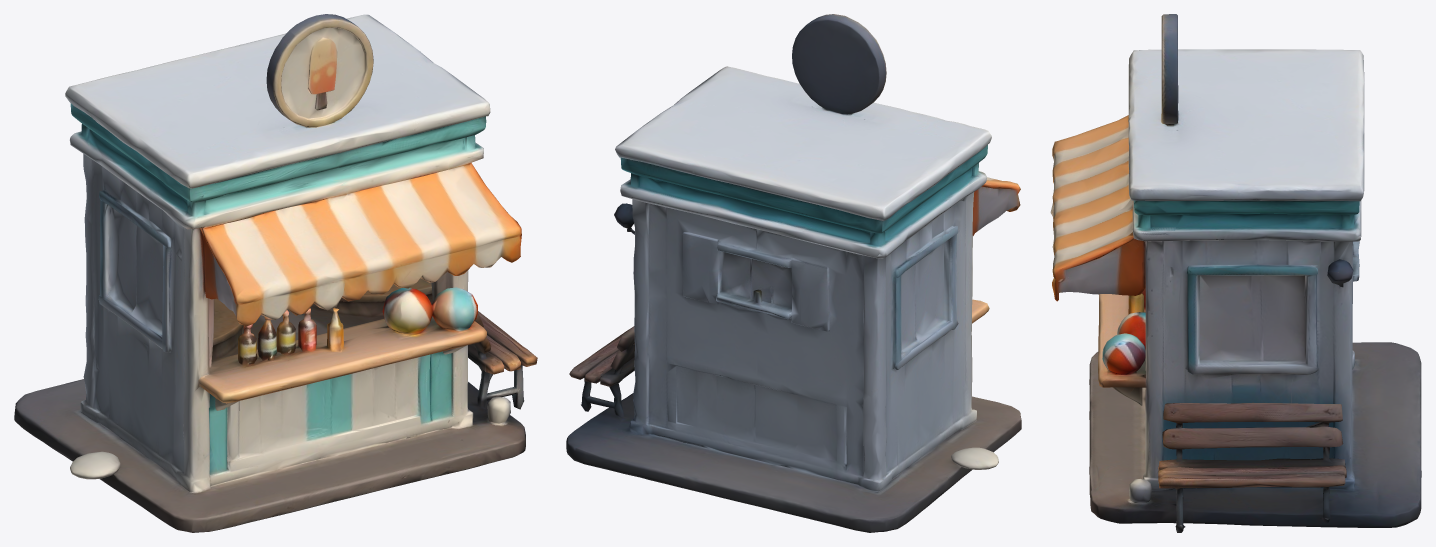
Rendered from kiosk.glb.
The picture shows the model from 3 angles, left to right: view 1: azimuth 30°, elevation 25°; view 2: azimuth 150°, elevation 25°; view 3: azimuth 270°, elevation 25°; orthographic projection. The views are drawn at different scales.
Parts seen in each view (by area): view 1: tripo_node_656c8211-6b0a-4a7f-a098-8457f4254c27; view 2: tripo_node_656c8211-6b0a-4a7f-a098-8457f4254c27; view 3: tripo_node_656c8211-6b0a-4a7f-a098-8457f4254c27.
Boxes of the visible parts, x1,y1,x2,y2 form: tripo_node_656c8211-6b0a-4a7f-a098-8457f4254c27: [14, 14, 537, 532]; tripo_node_656c8211-6b0a-4a7f-a098-8457f4254c27: [566, 14, 1021, 532]; tripo_node_656c8211-6b0a-4a7f-a098-8457f4254c27: [1050, 14, 1421, 532].
Bounding box in the file's own units: 0.999 × 1 × 0.7949.
1 material, 1 textured.
